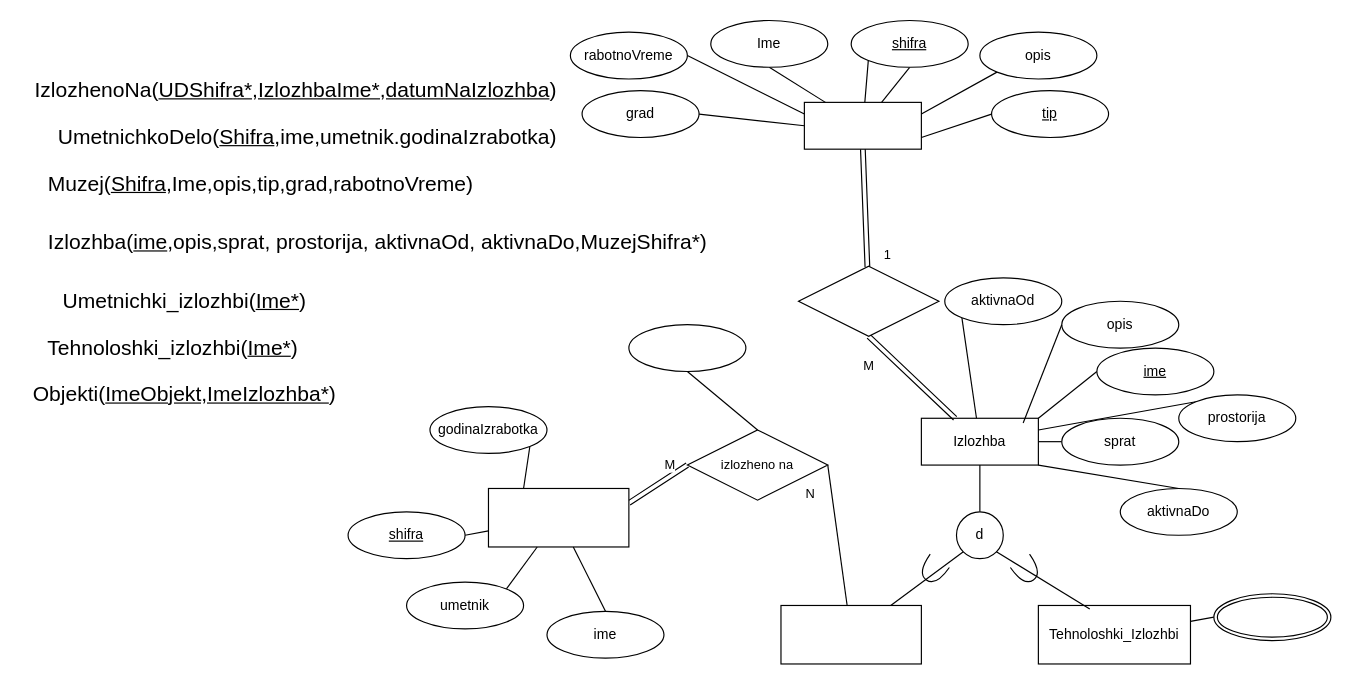
This 1351x684 diagram has some shape labels left out. Here are the shapes that lost their labels. From the top down, the centre of each, then its label:
At [862,125]: "Muzej".
At [868,300]: "ima".
At [687,347]: "datumNaIzlozhba".
At [558,517]: "UmetnichkoDelo".
At [850,634]: "Umetnichki_Izlozhbi".
At [1272,617]: "Obejkti".
